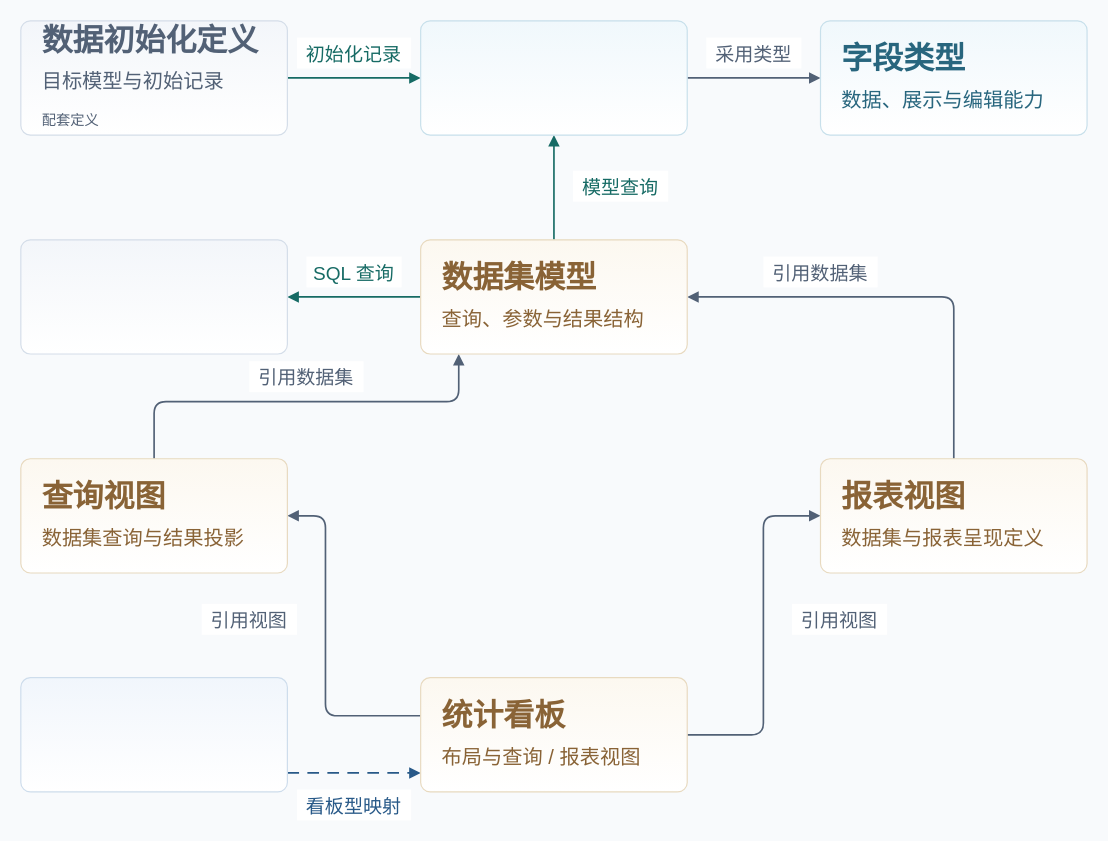
Some shapes in this 1108 by 841 pixel diagram are drawn without their labels. The shapes that lost their labels are listed below. From the top down, each one's centre as x and y in pixels, then its label:
point (553, 77): 数据模型 字段、关系与查询语义
point (153, 296): 数据源定义 SQL 连接与数据源标识 配套定义
point (153, 734): 业务模型 属性、关系、视图与行为
